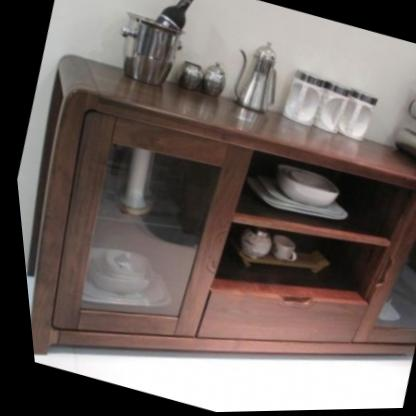Cupboard: (21, 55, 416, 359)
